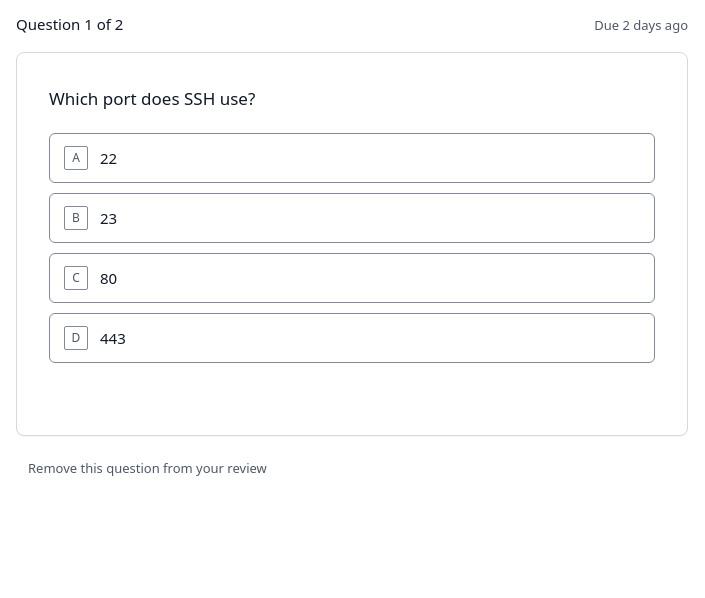
SrsReviewClient › waits for Continue after a correct answer: nothing moves by itself, and no streak is shown
Click the button "A 22". click: (76, 158)
box: top-left (49, 133), bottom-right (655, 183)
Wait 60000 ms
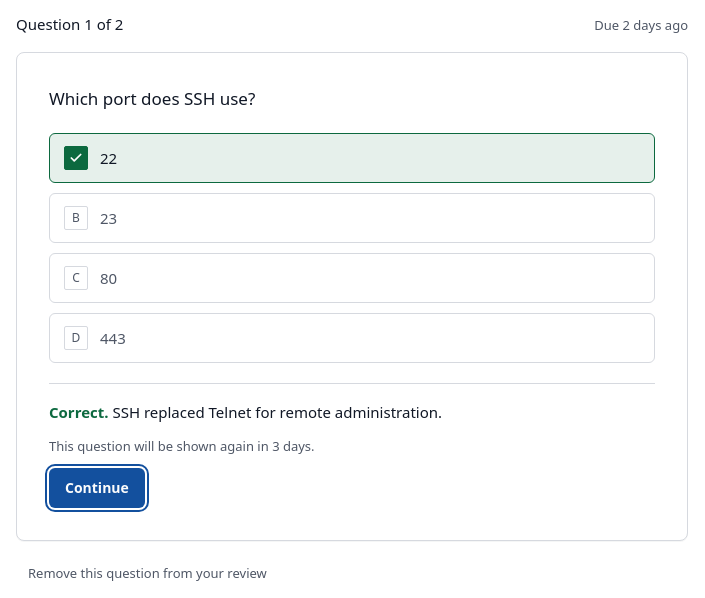
Expected: the text "Question 1 of 2" is shown, top-left (16, 12), bottom-right (123, 36)
Expected: the text "This question will be shown again in 3 days." is shown, top-left (49, 437), bottom-right (315, 455)
Expected: the text "Correct." is shown, top-left (49, 402), bottom-right (108, 422)
// Continue brings the next question, which takes the focus so that it is read.
Click the button "Continue". click: (97, 488)
box: top-left (49, 468), bottom-right (145, 508)
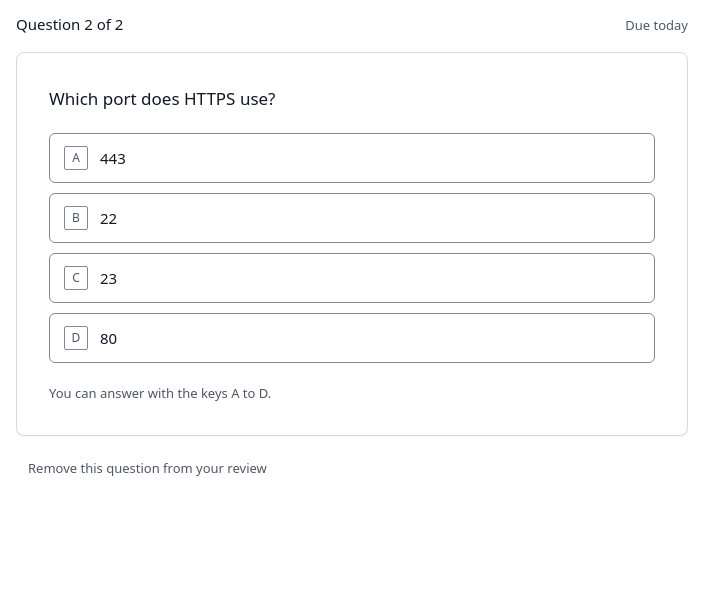
Expected: the text "Question 2 of 2" is shown, top-left (16, 12), bottom-right (123, 36)
Expected: the heading reads "Which port does HTTPS use?", top-left (49, 87), bottom-right (276, 110)
